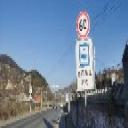speed_limit_60: (76, 10, 90, 38)
